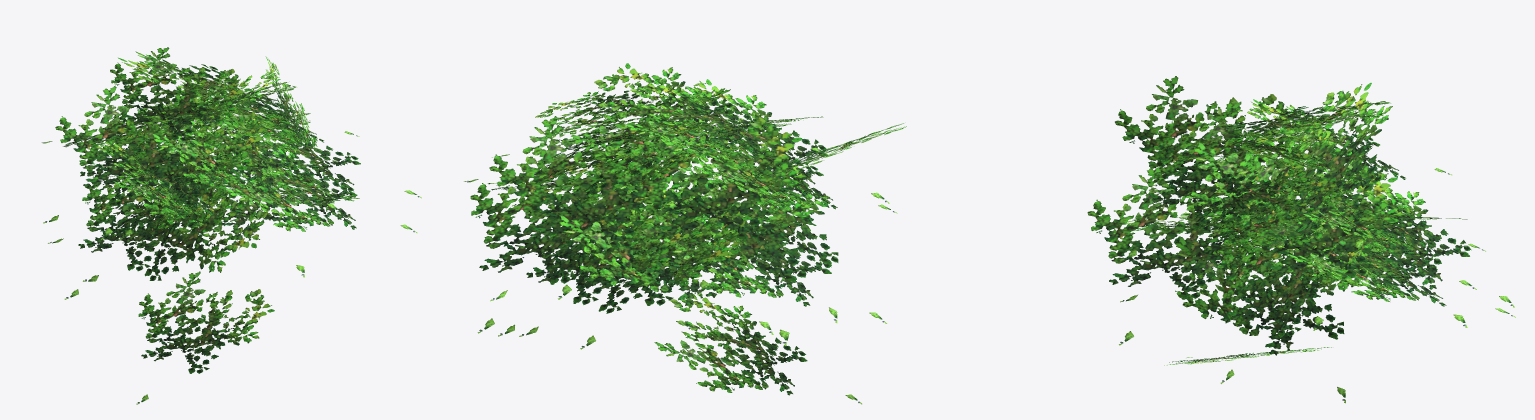
The model's file is tree_tropic_top_c.dae.
3 renders of one model, left to right at view 1: azimuth 30°, elevation 25°; view 2: azimuth 150°, elevation 25°; view 3: azimuth 270°, elevation 25°, orthographic. The views are drawn at different scales.
Parts seen in each view (by area): view 1: tree_oak_top_a; view 2: tree_oak_top_a; view 3: tree_oak_top_a.
Part boxes in pixels (x1=…): tree_oak_top_a: x1=41, y1=47, x2=421, y2=404; tree_oak_top_a: x1=464, y1=63, x2=906, y2=404; tree_oak_top_a: x1=1087, y1=76, x2=1515, y2=403.
Size of the model in its own units: 20.19 by 20.98 by 16.11.
